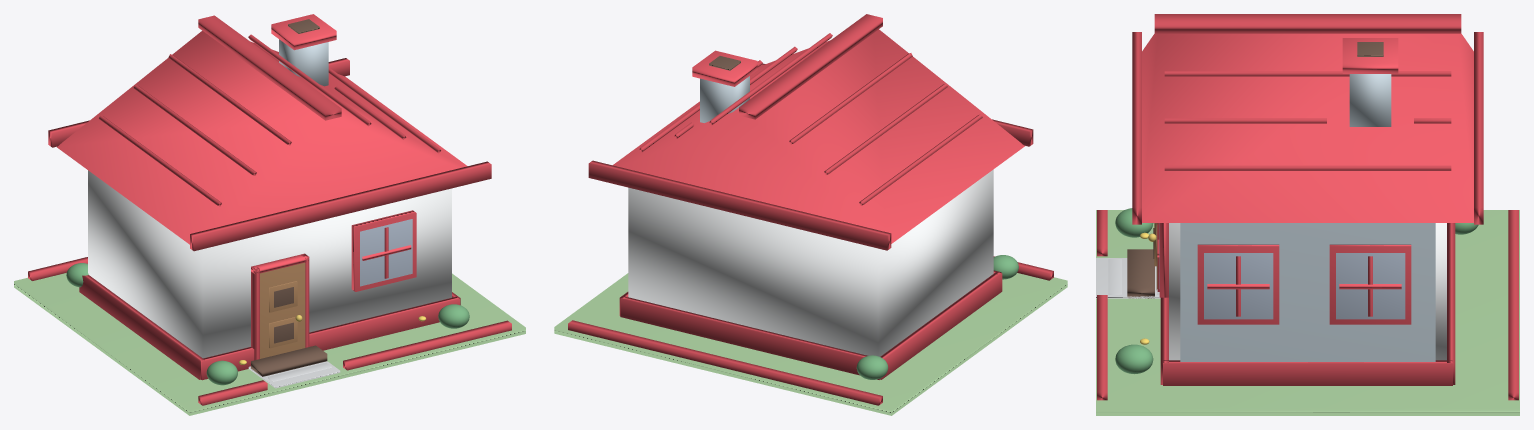
Rendered from casa_detallada_red.glb.
3 views of the same model, side by side, from view 1: azimuth 30°, elevation 25°; view 2: azimuth 150°, elevation 25°; view 3: azimuth 270°, elevation 25° (orthographic). The views are drawn at different scales.
Parts seen in each view (by area): view 1: Casa_Techo_Rojo_Detallado, Casa_Paredes_Suaves, Casa_Grama_Base_Redondeada, Casa_Techo_Fascia_Frontal, Casa_Zocalo_Frontal_Rojo, Casa_Techo_Cumbrera_Roja, Casa_Zocalo_Izquierdo_Rojo, Ventana_Frontal_Principal_Cristal, Puerta_Cuerpo_Madera, Casa_Borde_Base_Frontal_Derecho, Ventana_Frontal_Principal_Marco_Azul, Casa_Chimenea_Cuerpo (+17 smaller); view 2: Casa_Techo_Rojo_Detallado, Casa_Paredes_Suaves, Casa_Grama_Base_Redondeada, Casa_Techo_Fascia_Trasero, Casa_Zocalo_Trasero_Rojo, Casa_Borde_Base_Trasero, Casa_Techo_Cumbrera_Roja, Casa_Zocalo_Izquierdo_Rojo, Casa_Chimenea_Cuerpo, Casa_Chimenea_Tapa_Roja, Casa_Techo_Linea_Teja_Der_1, Casa_Techo_Linea_Teja_Izq_2 (+5 smaller); view 3: Casa_Techo_Rojo_Detallado, Casa_Grama_Base_Redondeada, Casa_Pared_Lateral_Azulada, Casa_Zocalo_Derecho_Rojo, Casa_Techo_Cumbrera_Roja, Ventana_Lateral_Frontal_Cristal, Ventana_Lateral_Trasera_Cristal, Casa_Paredes_Suaves, Casa_Chimenea_Cuerpo, Ventana_Lateral_Frontal_Marco_Azul, Ventana_Lateral_Trasera_Marco_Azul, Casa_Borde_Base_Trasero (+17 smaller).
Part boxes in pixels (box(x1,y1,x2,y2)): Casa_Techo_Rojo_Detallado: box(57, 30, 467, 244); Casa_Paredes_Suaves: box(88, 170, 451, 358); Casa_Grama_Base_Redondeada: box(14, 273, 525, 415); Casa_Techo_Fascia_Frontal: box(190, 161, 491, 251); Casa_Zocalo_Frontal_Rojo: box(200, 296, 459, 380); Casa_Techo_Cumbrera_Roja: box(198, 15, 341, 120); Casa_Zocalo_Izquierdo_Rojo: box(79, 275, 204, 379); Ventana_Frontal_Principal_Cristal: box(360, 219, 412, 286); Puerta_Cuerpo_Madera: box(260, 262, 305, 358); Casa_Borde_Base_Frontal_Derecho: box(343, 320, 511, 370); Ventana_Frontal_Principal_Marco_Azul: box(351, 210, 416, 291); Casa_Chimenea_Cuerpo: box(279, 39, 328, 86); Casa_Techo_Rojo_Detallado: box(613, 29, 1024, 243); Casa_Paredes_Suaves: box(628, 169, 993, 356); Casa_Grama_Base_Redondeada: box(554, 273, 1067, 415); Casa_Techo_Fascia_Trasero: box(588, 160, 891, 250); Casa_Zocalo_Trasero_Rojo: box(620, 296, 879, 379); Casa_Borde_Base_Trasero: box(568, 320, 882, 405); Casa_Techo_Cumbrera_Roja: box(739, 14, 882, 119); Casa_Zocalo_Izquierdo_Rojo: box(880, 272, 1002, 379); Casa_Chimenea_Cuerpo: box(700, 76, 749, 122); Casa_Chimenea_Tapa_Roja: box(692, 50, 757, 86); Casa_Techo_Linea_Teja_Der_1: box(709, 33, 832, 124); Casa_Techo_Linea_Teja_Izq_2: box(824, 83, 947, 174); Casa_Techo_Rojo_Detallado: box(1142, 33, 1473, 222); Casa_Grama_Base_Redondeada: box(1096, 210, 1519, 415); Casa_Pared_Lateral_Azulada: box(1180, 223, 1435, 361); Casa_Zocalo_Derecho_Rojo: box(1163, 360, 1452, 385); Casa_Techo_Cumbrera_Roja: box(1154, 14, 1461, 33); Ventana_Lateral_Frontal_Cristal: box(1204, 253, 1273, 319); Ventana_Lateral_Trasera_Cristal: box(1336, 253, 1405, 319); Casa_Paredes_Suaves: box(1169, 223, 1446, 360); Casa_Chimenea_Cuerpo: box(1349, 74, 1391, 126); Ventana_Lateral_Frontal_Marco_Azul: box(1197, 244, 1279, 324); Ventana_Lateral_Trasera_Marco_Azul: box(1329, 244, 1411, 324); Casa_Borde_Base_Trasero: box(1508, 210, 1518, 400).
Size of the model in its own units: 1.35 by 0.9689 by 1.22.
